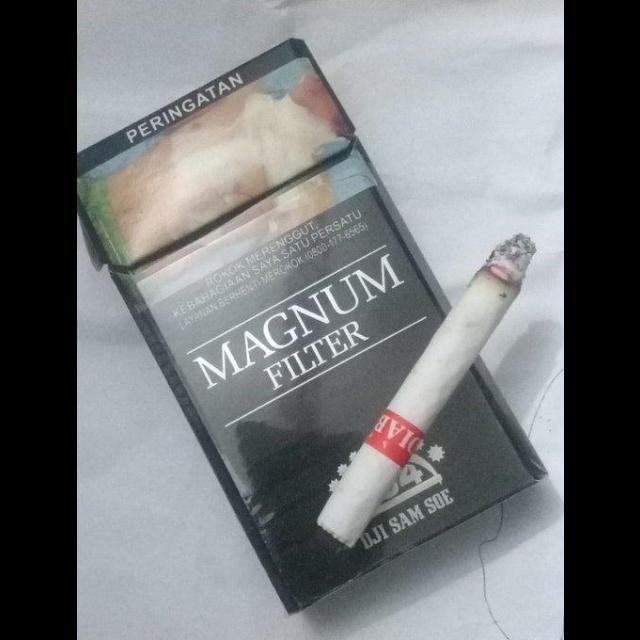rokok: (320, 222, 536, 546)
